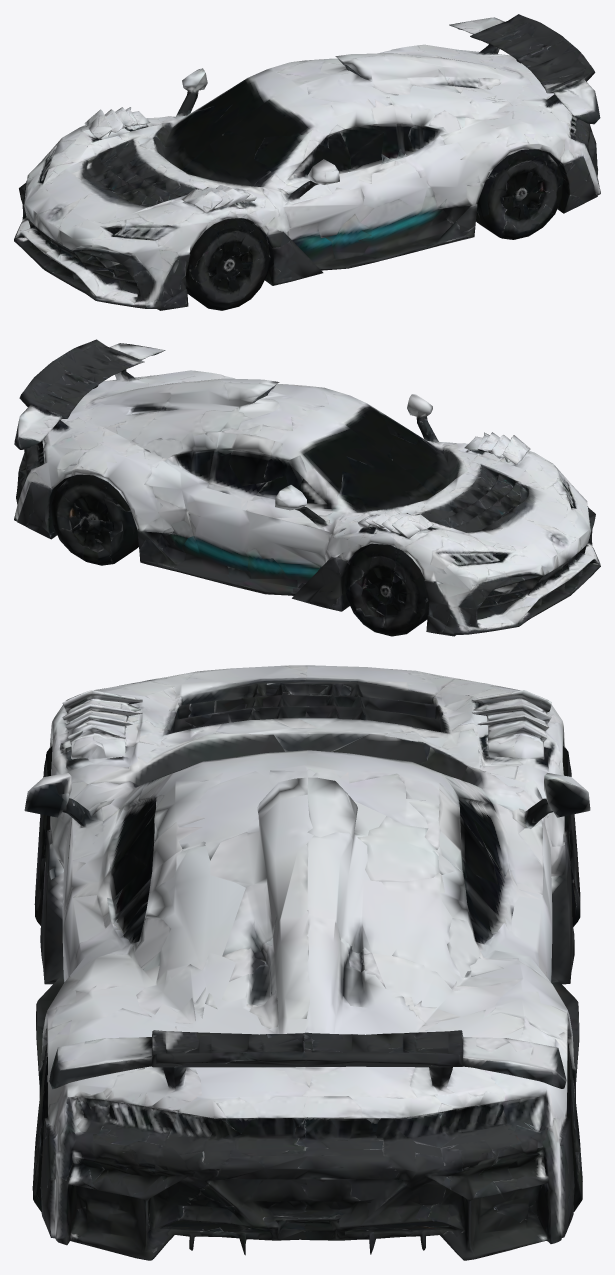
Rendered from mercedes-benz-one.glb.
The picture shows the model from 3 angles, top to bottom: view 1: azimuth 30°, elevation 25°; view 2: azimuth 150°, elevation 25°; view 3: azimuth 270°, elevation 25°; orthographic projection. The views are drawn at different scales.
Bounding box in the file's own units: 1.9 × 0.5456 × 0.8908.
Materials: 1 (1 with a texture image).
